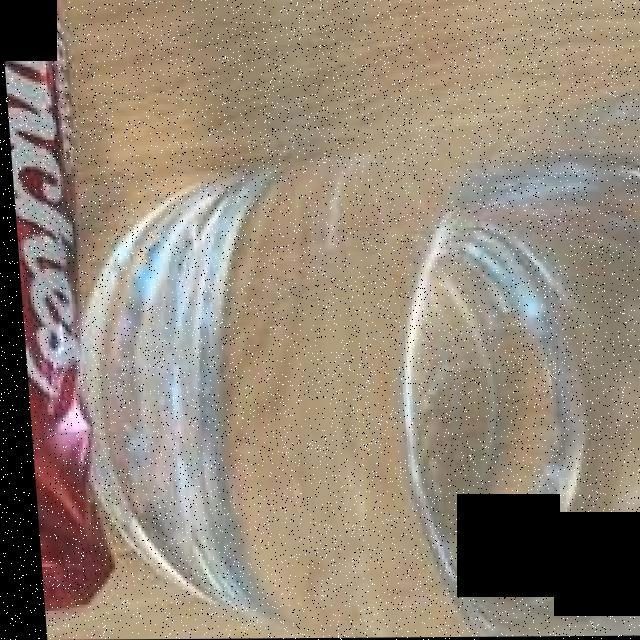water: (413, 150, 640, 607)
